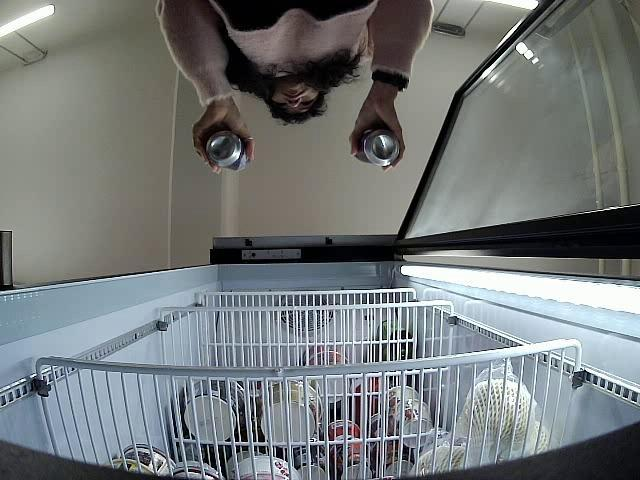14_welchsGrape: (205, 129, 251, 175), (354, 126, 400, 168)
